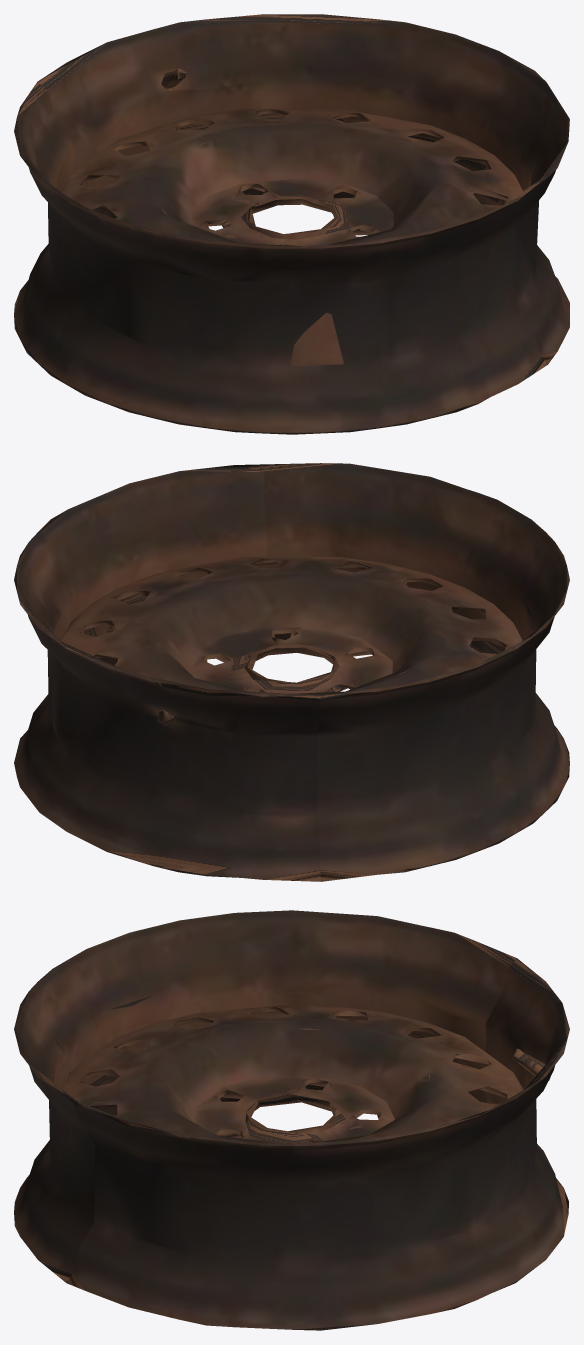
The model's file is wheel_rim.glb.
The picture shows the model from 3 angles, top to bottom: view 1: azimuth 30°, elevation 25°; view 2: azimuth 150°, elevation 25°; view 3: azimuth 270°, elevation 25°; orthographic projection.
Parts seen in each view (by area): view 1: rusted_wheel_rim_01; view 2: rusted_wheel_rim_01; view 3: rusted_wheel_rim_01.
Boxes of the visible parts, x1,y1,x2,y2 form: rusted_wheel_rim_01: [14, 14, 569, 434]; rusted_wheel_rim_01: [14, 463, 569, 881]; rusted_wheel_rim_01: [14, 910, 569, 1330].
Size of the model in its own units: 0.4049 by 0.15 by 0.4039.
1 material, 1 textured.
